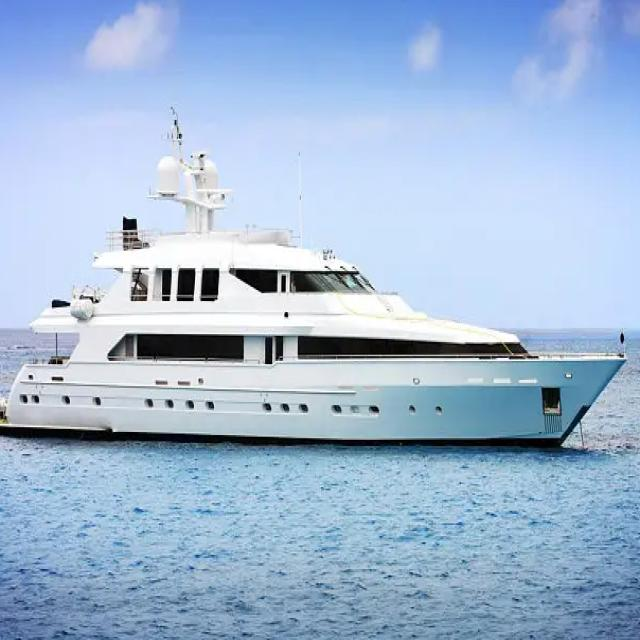houseboat: (4, 138, 640, 460)
